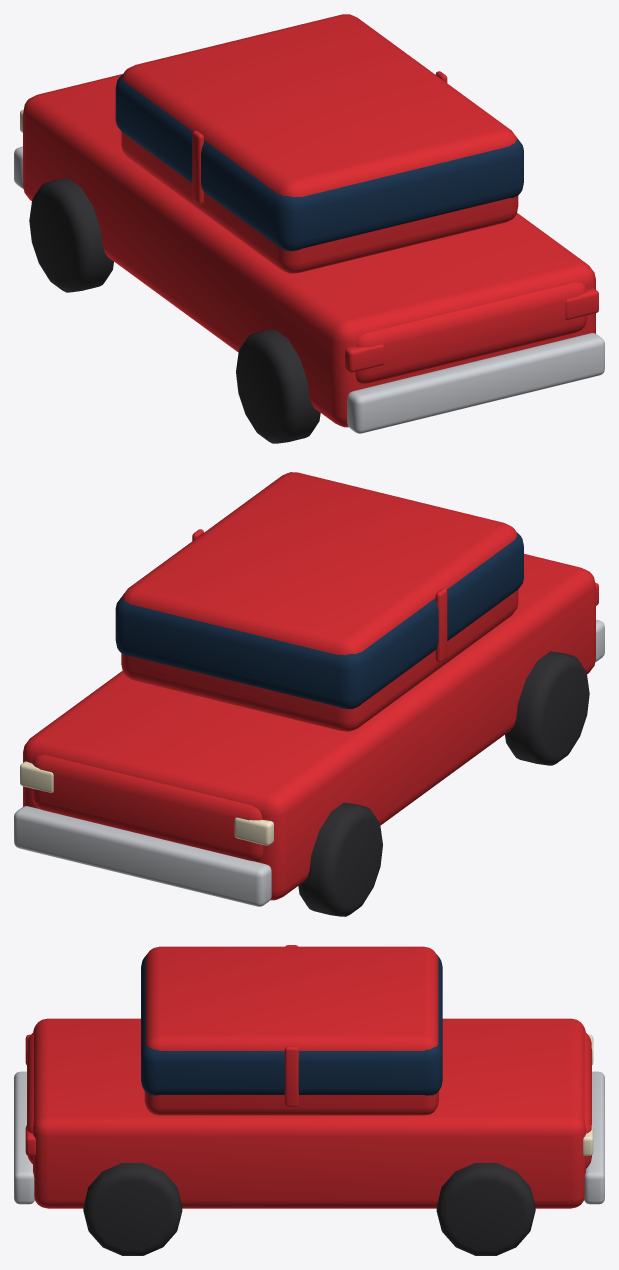
The model's file is sedan-red.glb.
3 renders of one model, top to bottom at view 1: azimuth 30°, elevation 25°; view 2: azimuth 150°, elevation 25°; view 3: azimuth 270°, elevation 25°, orthographic. The views are drawn at different scales.
Visible parts, largest first — view 1: Sedan_Body, Sedan_Cabin, Sedan_GlassBand, Sedan_BumpR, Sedan_Trunk, Wheel_2V_Sedan, Wheel_0V_Sedan, Sedan_Tail_0, Sedan_Tail_1, Sedan_Bpil_-1; view 2: Sedan_Body, Sedan_Cabin, Sedan_GlassBand, Sedan_Hood, Sedan_BumpF, Wheel_0V_Sedan, Wheel_2V_Sedan, Sedan_Light_0, Sedan_Bpil_-1, Sedan_Light_1; view 3: Sedan_Body, Sedan_Cabin, Sedan_GlassBand, Wheel_1V_Sedan, Wheel_3V_Sedan, Sedan_BumpR, Sedan_BumpF, Sedan_Bpil_+1, Sedan_Hood, Sedan_Trunk.
Part boxes in pixels (x1,y1,x2,y2): Sedan_Body: (23, 74, 595, 427); Sedan_Cabin: (121, 14, 518, 273); Sedan_GlassBand: (115, 74, 523, 251); Sedan_BumpR: (347, 333, 604, 433); Sedan_Trunk: (355, 282, 587, 383); Wheel_2V_Sedan: (236, 329, 320, 443); Wheel_0V_Sedan: (29, 178, 113, 292); Sedan_Tail_0: (345, 344, 384, 372); Sedan_Tail_1: (565, 288, 598, 319); Sedan_Bpil_-1: (192, 130, 203, 204); Sedan_Body: (23, 554, 595, 900); Sedan_Cabin: (121, 472, 518, 731); Sedan_GlassBand: (115, 532, 523, 709); Sedan_Hood: (32, 755, 263, 861); Sedan_BumpF: (14, 806, 271, 906); Wheel_0V_Sedan: (298, 802, 382, 916); Wheel_2V_Sedan: (505, 651, 589, 765); Sedan_Light_0: (234, 817, 273, 845); Sedan_Bpil_-1: (435, 588, 447, 662); Sedan_Light_1: (20, 761, 53, 792); Sedan_Body: (33, 1018, 585, 1208); Sedan_Cabin: (144, 946, 438, 1115); Sedan_GlassBand: (141, 955, 442, 1095); Wheel_1V_Sedan: (436, 1163, 535, 1255); Wheel_3V_Sedan: (83, 1163, 182, 1255); Sedan_BumpR: (14, 1071, 34, 1204); Sedan_BumpF: (584, 1071, 604, 1204); Sedan_Bpil_+1: (284, 1046, 298, 1106); Sedan_Hood: (584, 1032, 591, 1168); Sedan_Trunk: (27, 1032, 33, 1163).
Size of the model in its own units: 2.56 by 1.91 by 5.02.
